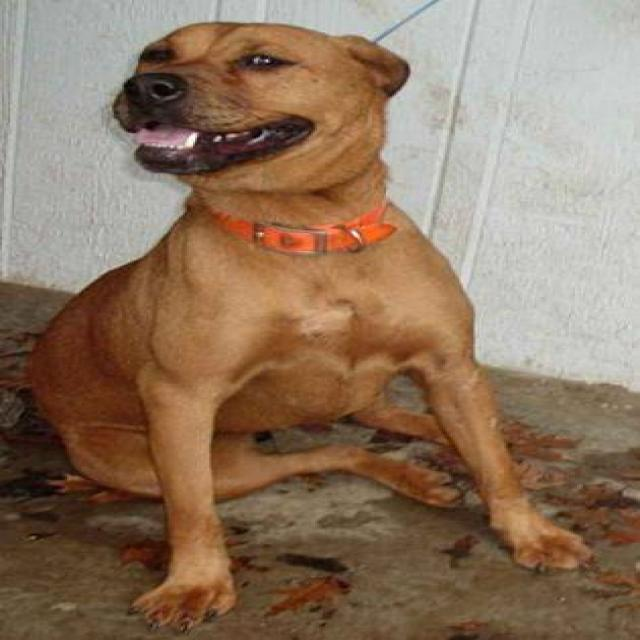dog: (20, 8, 597, 640)
